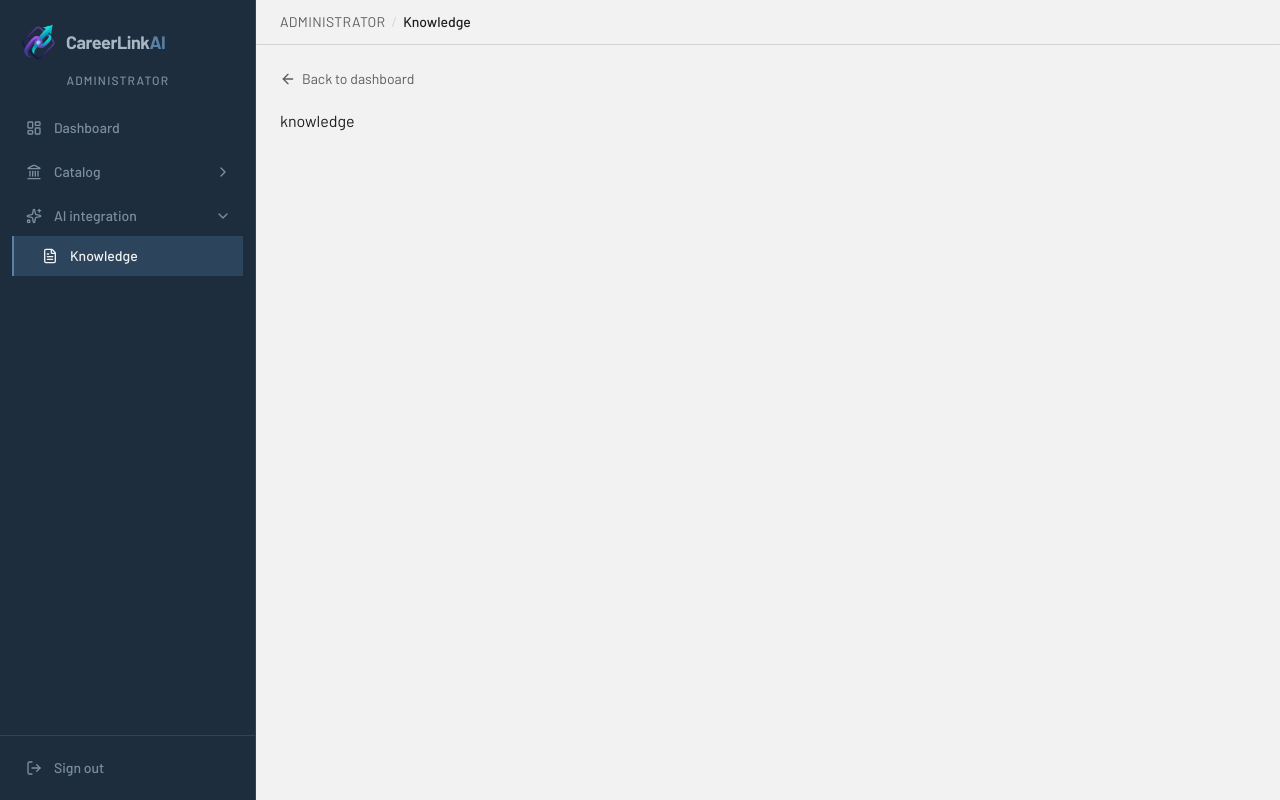
Scenario: AppShell — grouped navigation › keeps a group the person closed by hand closed, without the route reopening it
Click the button "AI integration".
click(128, 216)  # box x1=12 y1=196 x2=243 y2=236
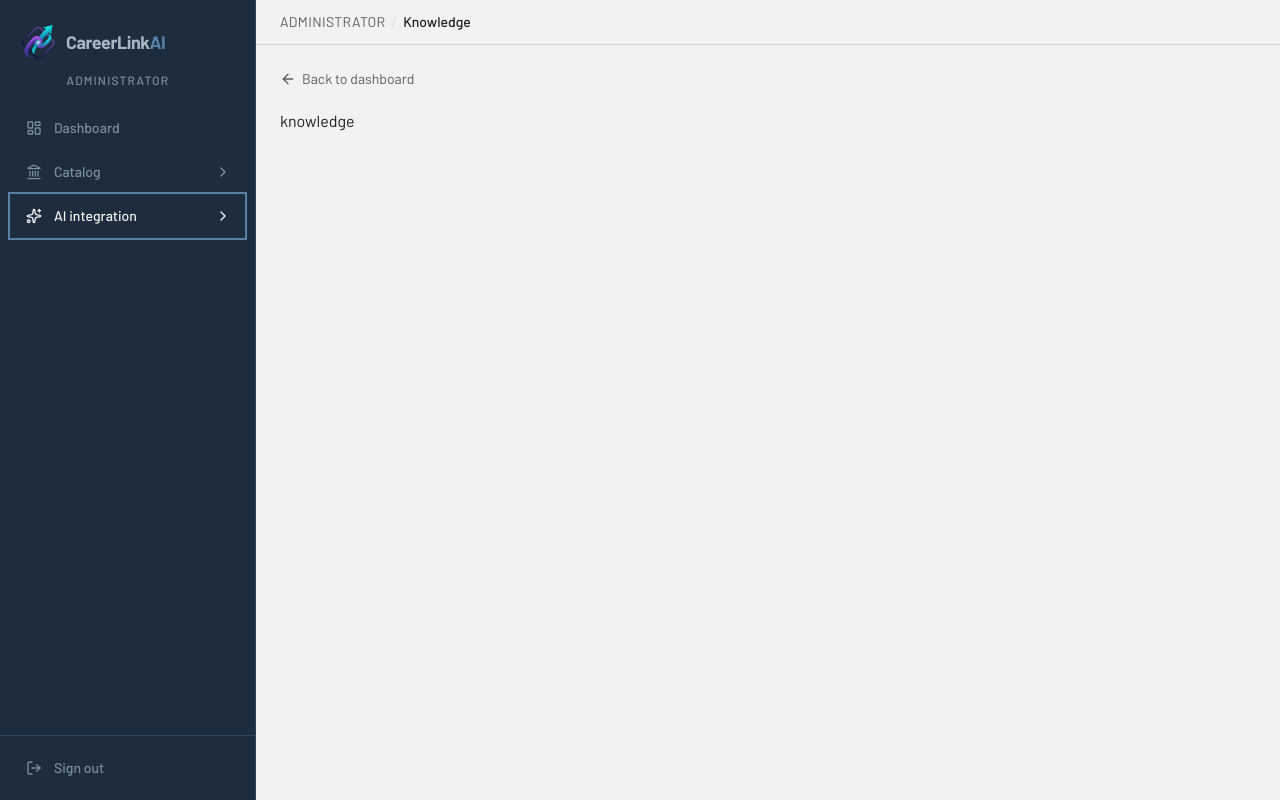
Expected: the button "AI integration" is collapsed, x1=12 y1=196 x2=243 y2=236
